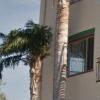Palm tree: (11, 10, 79, 99)
